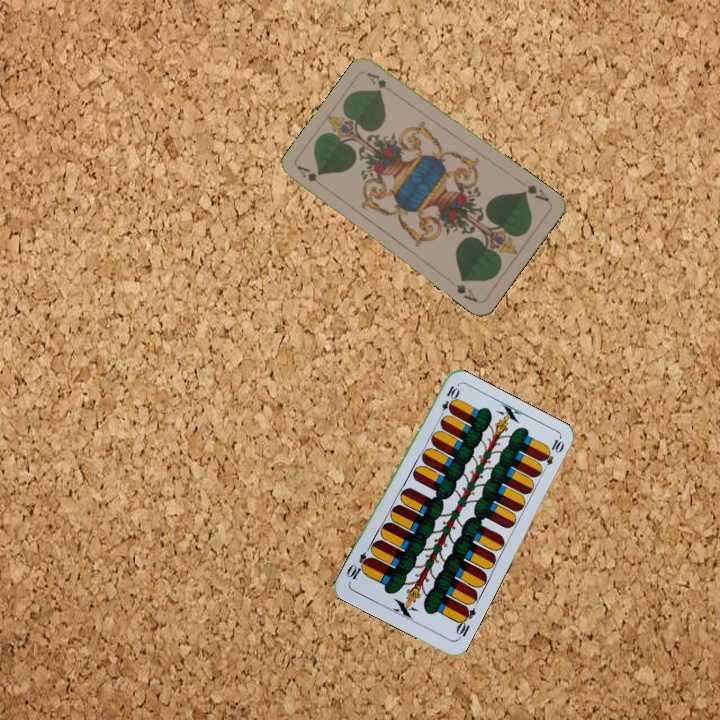E10: (452, 602, 478, 642), (435, 382, 461, 421)
GA: (293, 162, 329, 192), (516, 177, 552, 205)
